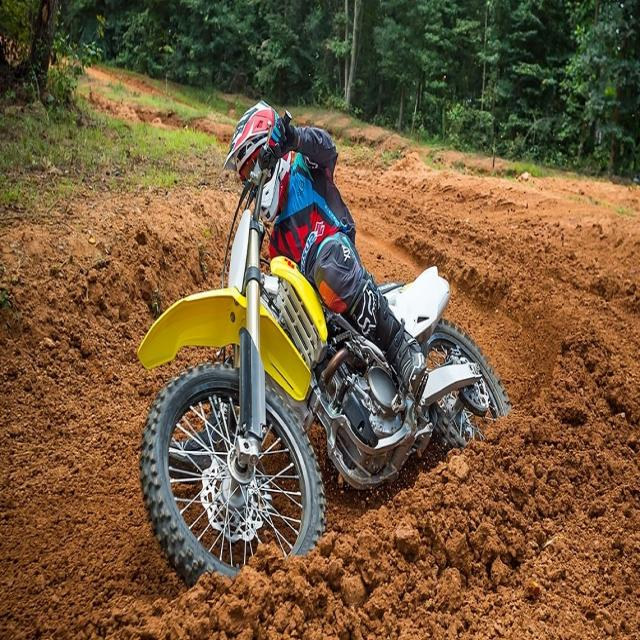motorcycle: (138, 102, 510, 583)
